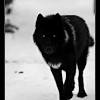Lobo: (28, 8, 95, 98)
